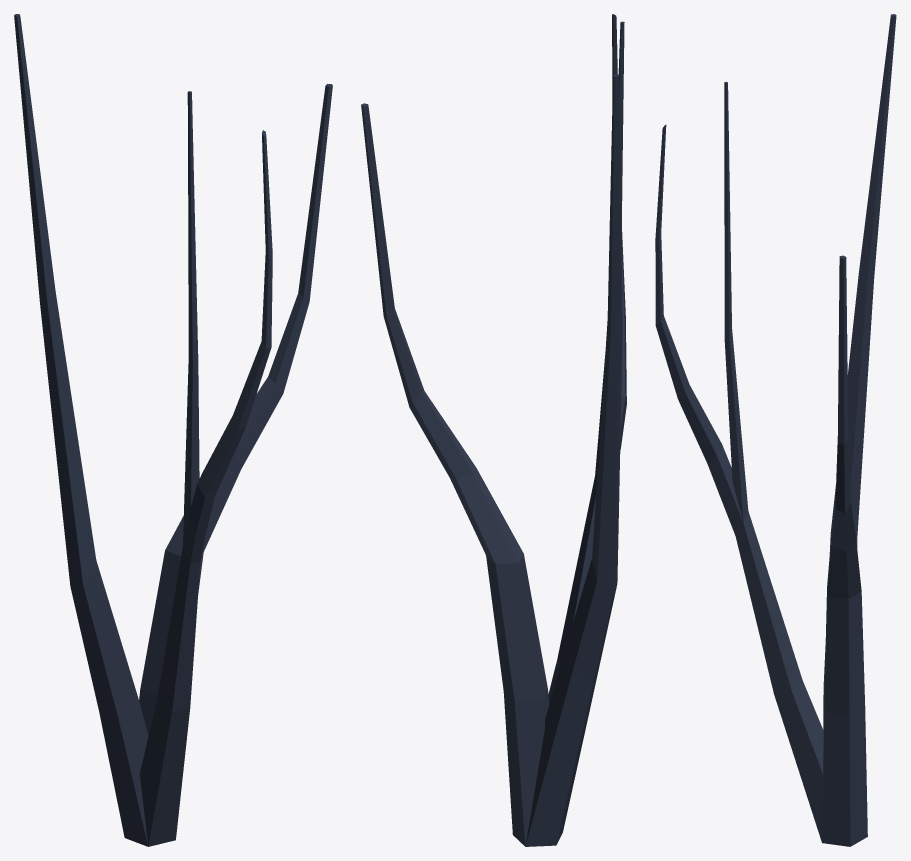
File: tumbuhan3.fbx
The picture shows the model from 3 angles, left to right: view 1: azimuth 30°, elevation 25°; view 2: azimuth 150°, elevation 25°; view 3: azimuth 270°, elevation 25°; orthographic projection. The views are drawn at different scales.
Visible parts, largest first — view 1: Cylinder_1.001; view 2: Cylinder_1.001; view 3: Cylinder_1.001.
Boxes of the visible parts, x1,y1,x2,y2 form: Cylinder_1.001: (14, 14, 332, 846); Cylinder_1.001: (361, 14, 626, 846); Cylinder_1.001: (655, 14, 896, 846).
Bounding box in the file's own units: 2850 × 7742 × 2189.
